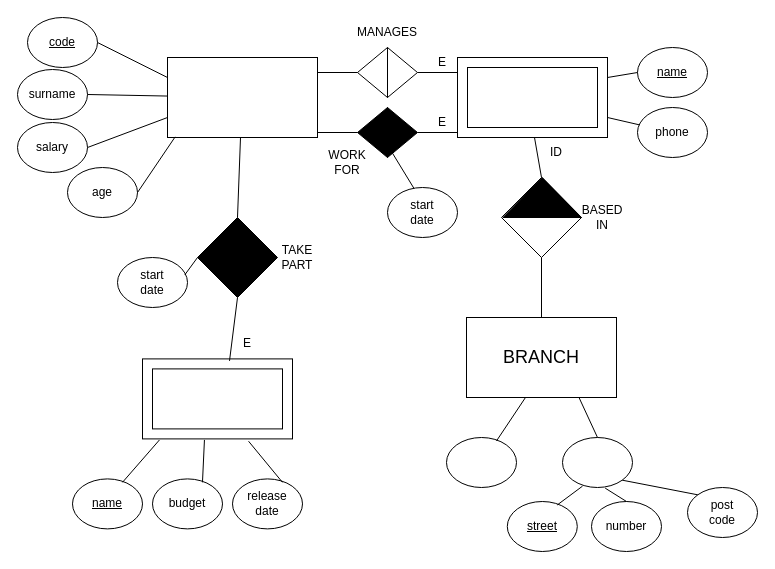
The diagram is 775 pixels wide and 569 high, and some of its shapes have lost their labels. The shapes that lost their labels are listed below. From the top down, each one's centre as x and y in pixels, then its label:
(x=242, y=97): EMPLOYEE
(x=532, y=97): DEPARTMENT
(x=217, y=398): PROJECT
(x=481, y=462): city
(x=597, y=462): address
